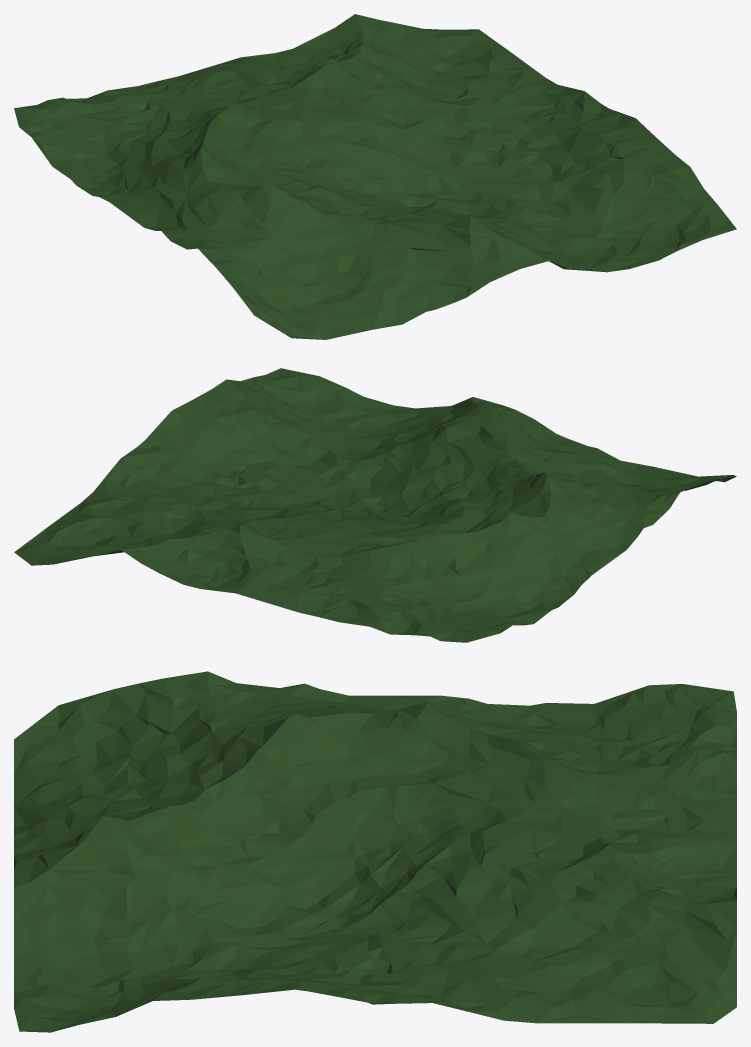
The model's file is SM_landscape_25.fbx.
3 views of the same model, one above another, from view 1: azimuth 30°, elevation 25°; view 2: azimuth 150°, elevation 25°; view 3: azimuth 270°, elevation 25° (orthographic). The views are drawn at different scales.
Parts seen in each view (by area): view 1: landscape_25; view 2: landscape_25; view 3: landscape_25.
Boxes of the visible parts, bbox=[...] form: landscape_25: bbox=[14, 14, 736, 339]; landscape_25: bbox=[14, 368, 736, 642]; landscape_25: bbox=[14, 671, 736, 1032].
Size of the model in its own units: 2224 by 352 by 2224.
